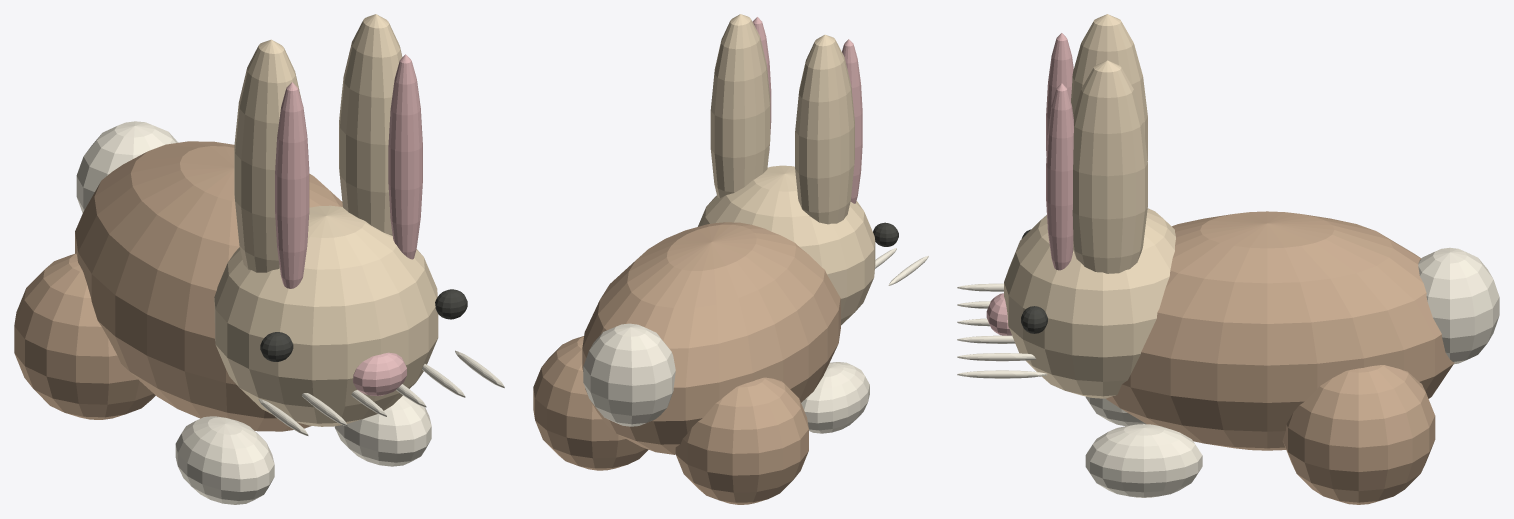
The model's file is shire_rabbit_animated.glb.
3 renders of one model, left to right at view 1: azimuth 30°, elevation 25°; view 2: azimuth 150°, elevation 25°; view 3: azimuth 270°, elevation 25°, orthographic. The views are drawn at different scales.
Parts seen in each view (by area): view 1: Batched_warm_feather_or_fur, Rabbit_head, Batched_soft_white_down, Batched_soft_ear_lining, Ears_sway_with_breath, Ears_sway_with_breath.001, Batched_dark_eyes; view 2: Batched_warm_feather_or_fur, Batched_soft_white_down, Rabbit_head, Ears_sway_with_breath.001, Ears_sway_with_breath, Batched_soft_ear_lining, Batched_dark_eyes; view 3: Batched_warm_feather_or_fur, Rabbit_head, Batched_soft_white_down, Ears_sway_with_breath, Batched_soft_ear_lining, Ears_sway_with_breath.001, Batched_dark_eyes.
Part boxes in pixels (x1,y1,x2,y2): Batched_warm_feather_or_fur: [14, 141, 342, 431]; Rabbit_head: [214, 205, 438, 426]; Batched_soft_white_down: [76, 121, 504, 504]; Batched_soft_ear_lining: [275, 54, 422, 395]; Ears_sway_with_breath: [339, 14, 402, 235]; Ears_sway_with_breath.001: [234, 39, 301, 272]; Batched_dark_eyes: [260, 289, 467, 361]; Batched_warm_feather_or_fur: [533, 222, 840, 504]; Batched_soft_white_down: [583, 248, 928, 433]; Rabbit_head: [698, 165, 875, 325]; Ears_sway_with_breath.001: [795, 34, 854, 224]; Ears_sway_with_breath: [710, 14, 770, 198]; Batched_soft_ear_lining: [752, 17, 862, 203]; Batched_dark_eyes: [873, 222, 898, 246]; Batched_warm_feather_or_fur: [1106, 211, 1454, 504]; Rabbit_head: [1004, 208, 1175, 398]; Batched_soft_white_down: [957, 247, 1499, 497]; Ears_sway_with_breath: [1072, 60, 1147, 273]; Batched_soft_ear_lining: [986, 33, 1073, 335]; Ears_sway_with_breath.001: [1071, 14, 1147, 160]; Batched_dark_eyes: [1021, 229, 1047, 333].
Size of the model in its own units: 0.7348 by 1.02 by 1.19.
